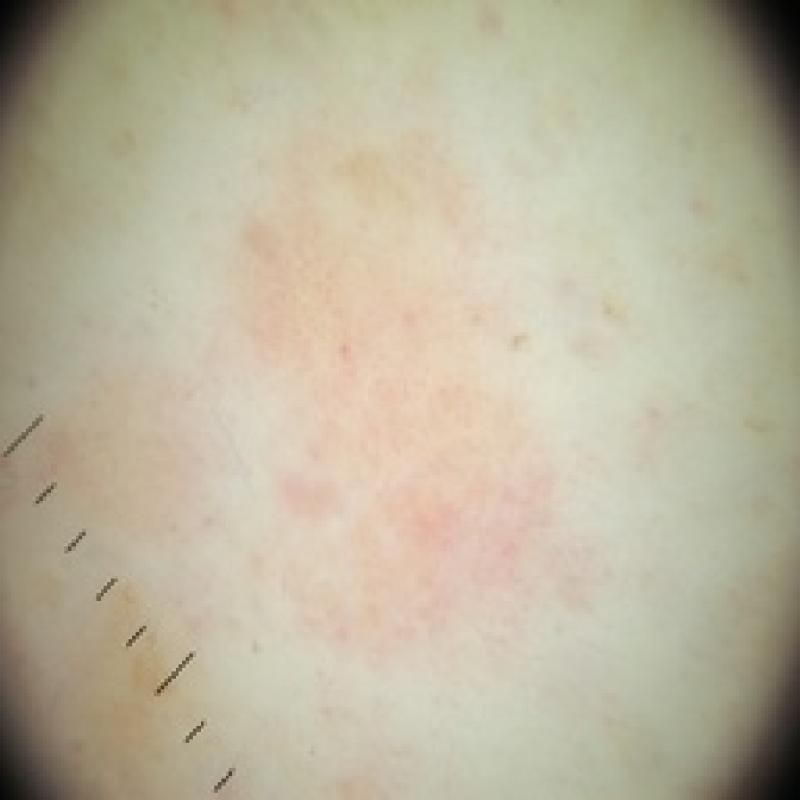malignant: (198, 88, 592, 676)
